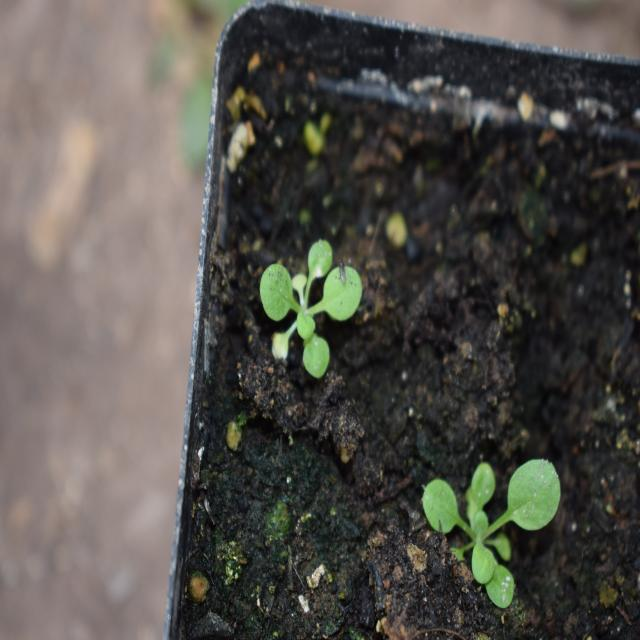Shepherd_Purse: (408, 421, 570, 628), (232, 231, 378, 389)
